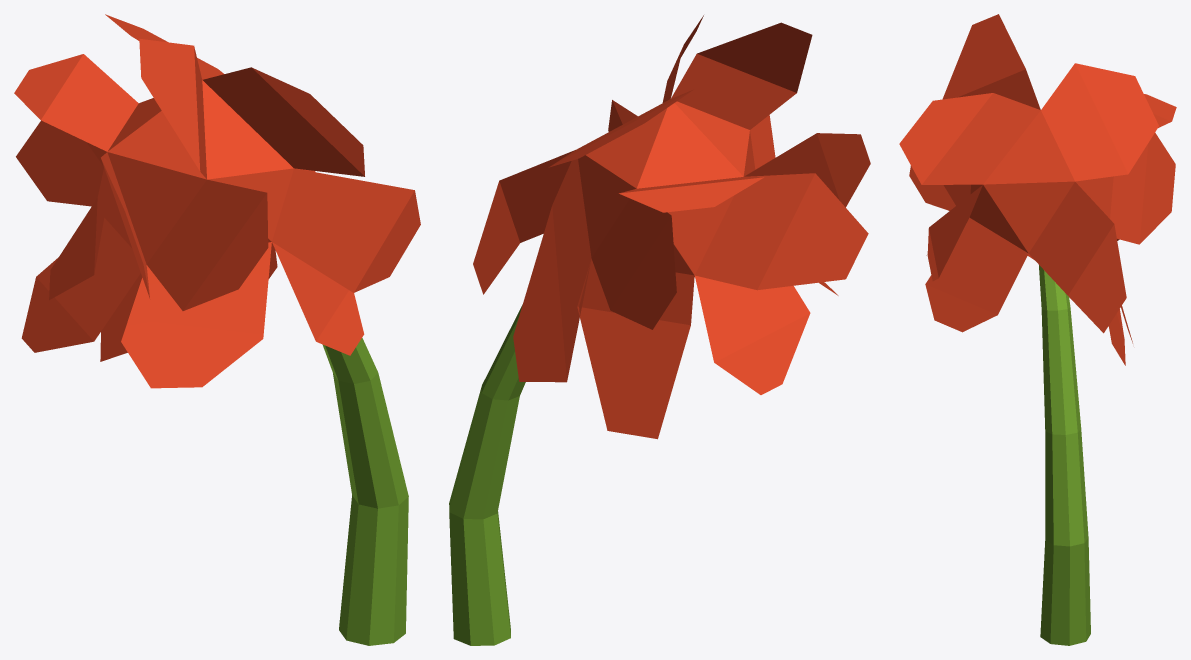
Rendered from Natures2f2.fbx.
The picture shows the model from 3 angles, left to right: view 1: azimuth 30°, elevation 25°; view 2: azimuth 150°, elevation 25°; view 3: azimuth 270°, elevation 25°; orthographic projection. The views are drawn at different scales.
Parts seen in each view (by area): view 1: f2; view 2: f2; view 3: f2.
Part boxes in pixels (x1,y1,x2,y2): f2: [14, 14, 420, 645]; f2: [449, 15, 870, 645]; f2: [899, 14, 1176, 645].
Size of the model in its own units: 79.35 by 131 by 63.28.
